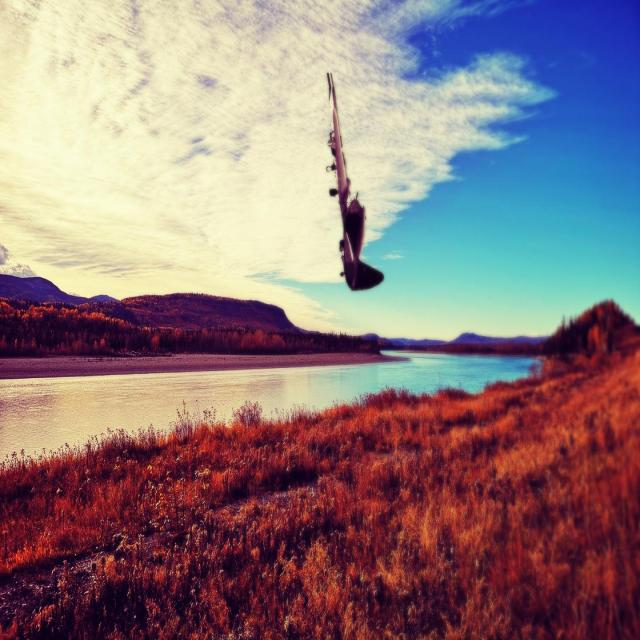airplane: (324, 70, 384, 291)
